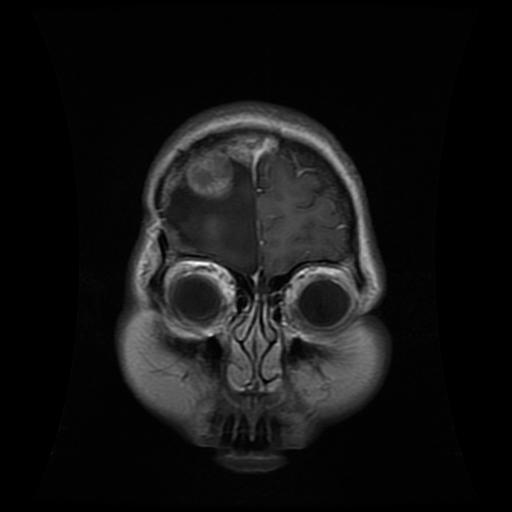Gliomia_tumour: (187, 138, 248, 198)
